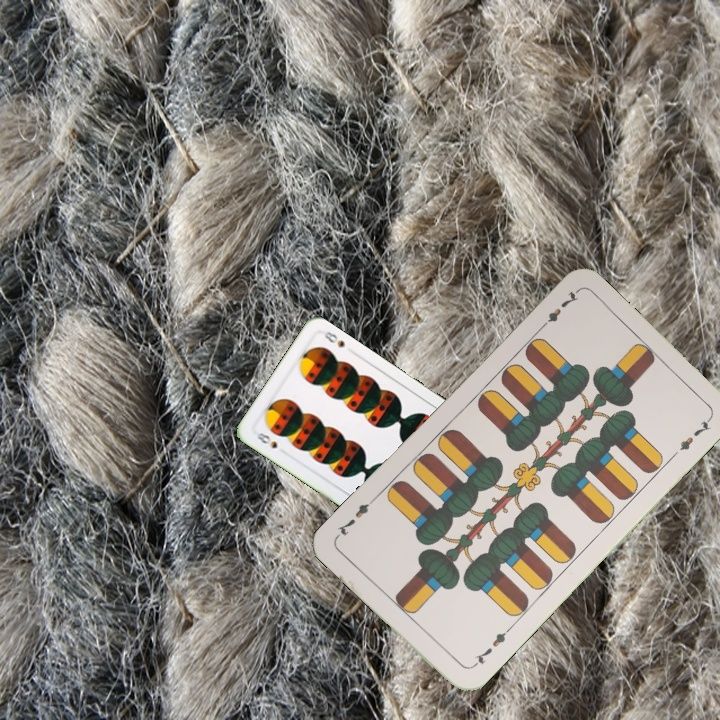E7: (534, 287, 581, 334), (468, 624, 513, 671)
S8: (250, 429, 280, 451)
